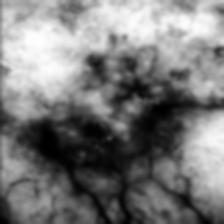Potentially Malignant Skin Tumors: (40, 64, 170, 166)
